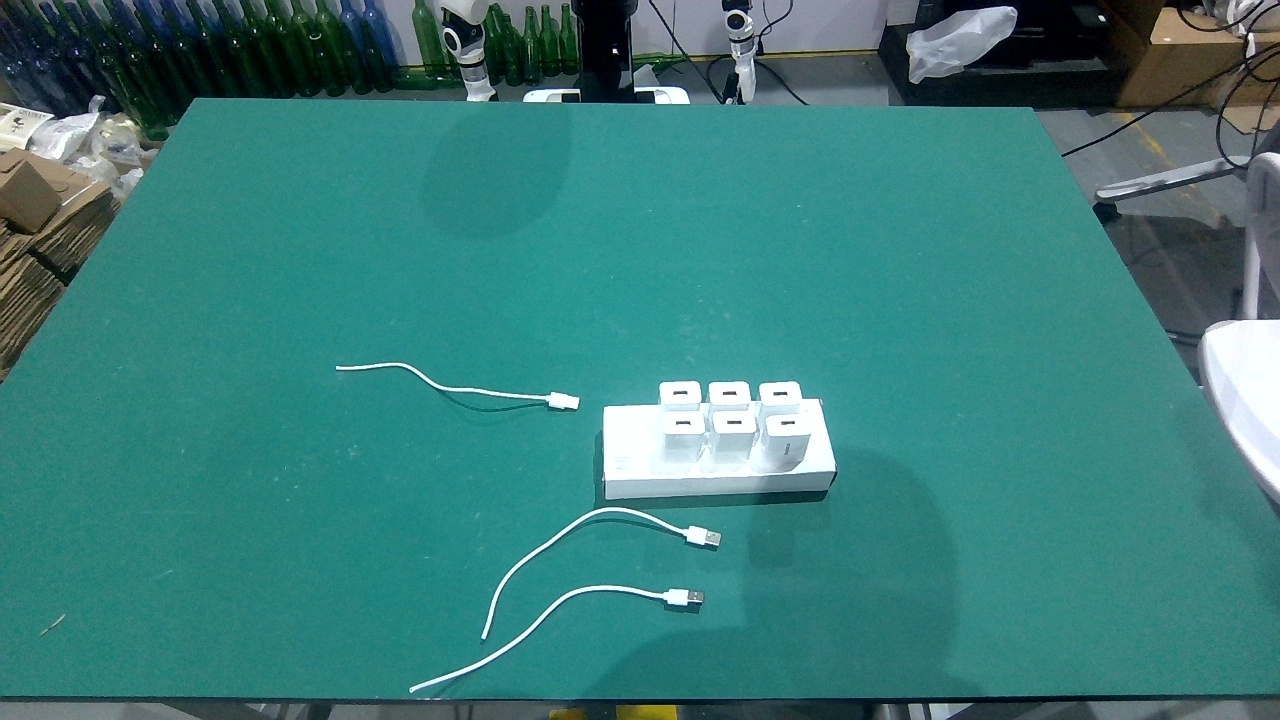usb_a_plug: (637, 585, 716, 608), (667, 520, 729, 549), (530, 387, 587, 416)
